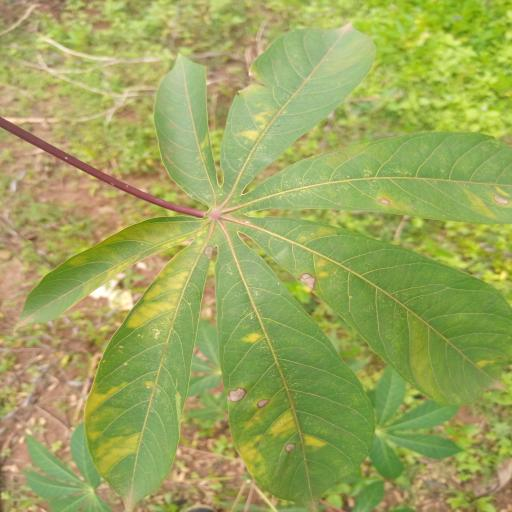Cassava_Brown_Leaf_Spot: (24, 24, 512, 502)
